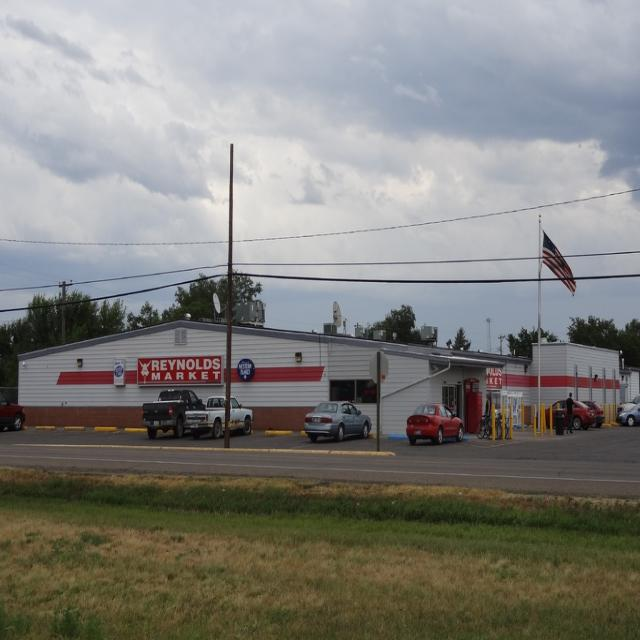car: (306, 393, 370, 441), (406, 405, 464, 451)
